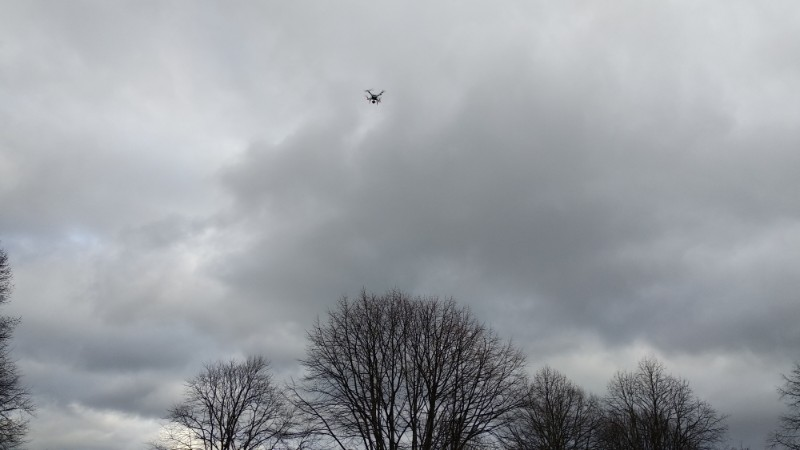drone: (364, 89, 386, 104)
